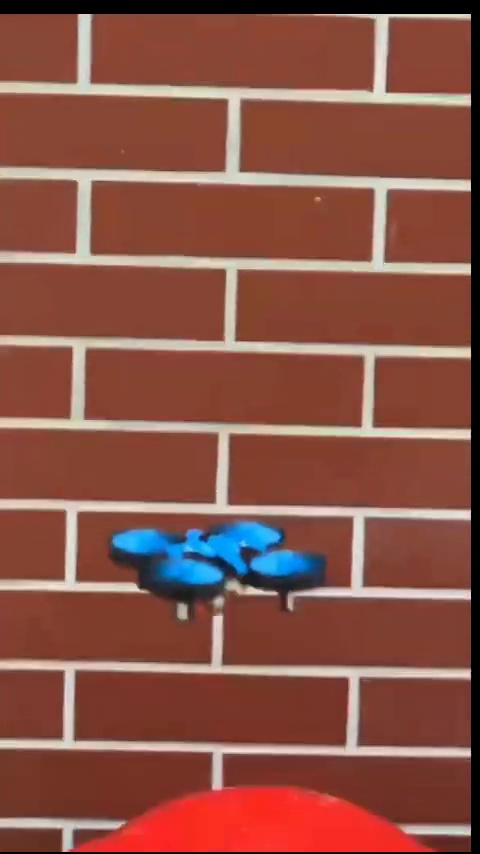drone: (112, 516, 329, 618)
